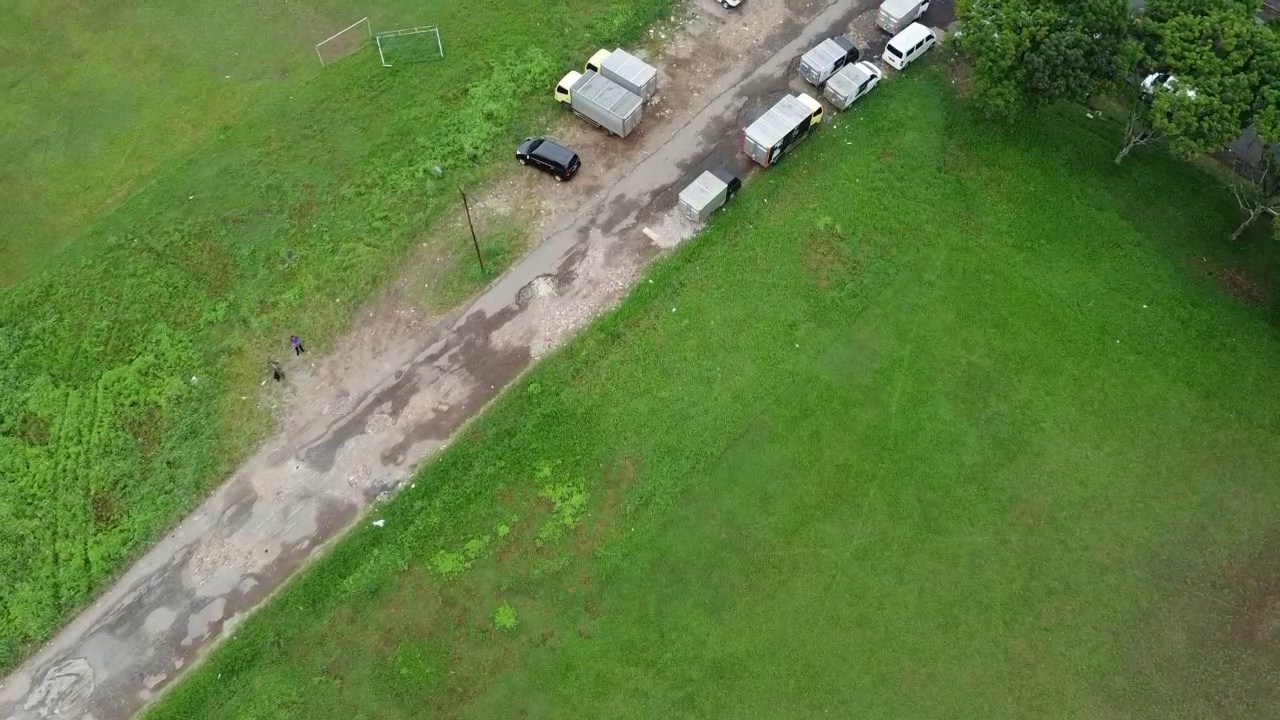mobil: (515, 134, 587, 179), (880, 25, 944, 68)
